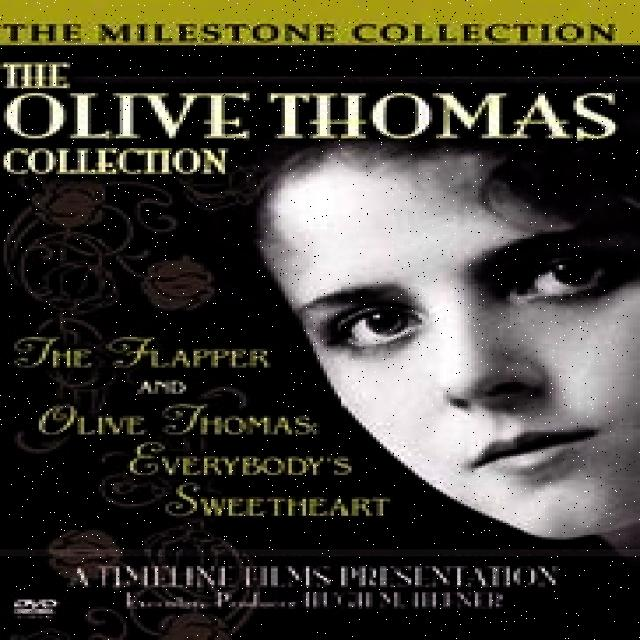movie-judul: (18, 329, 399, 546)
picture: (231, 123, 640, 521)
